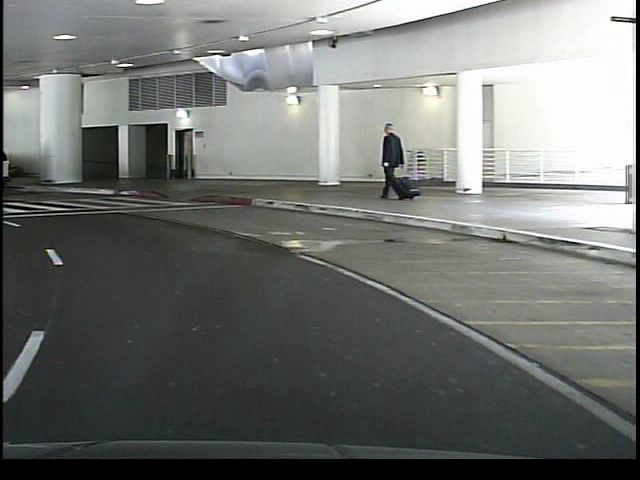person: (373, 121, 410, 199)
